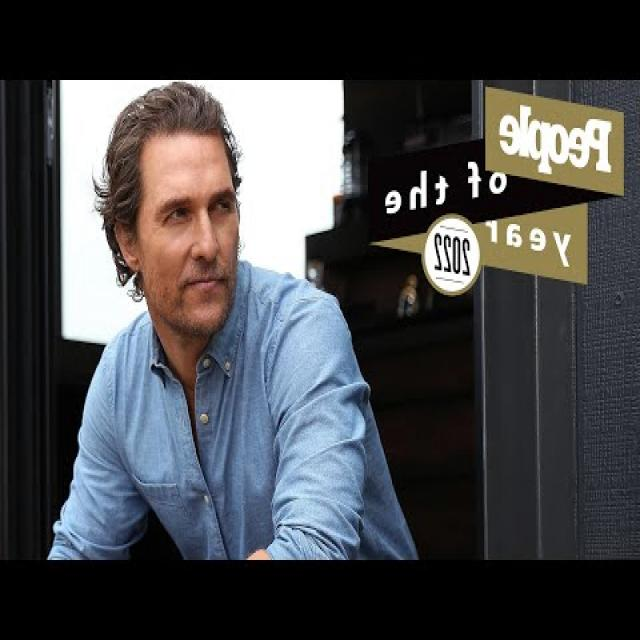adult: (48, 82, 418, 560)
